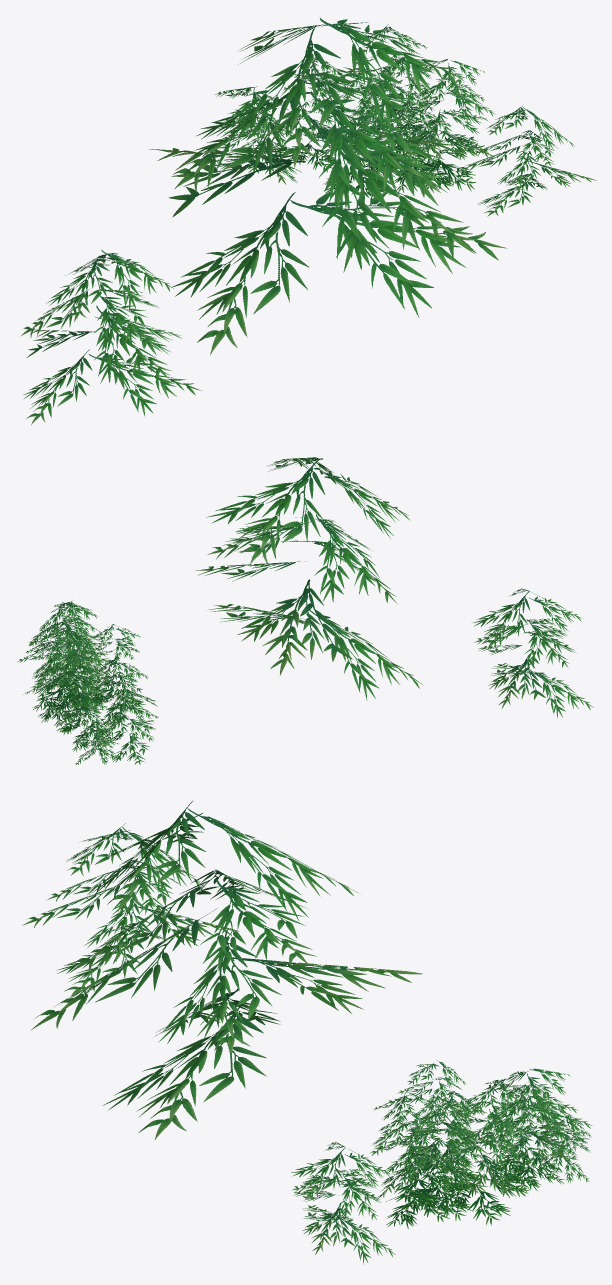
The model's file is Area_12_39.fbx.
3 renders of one model, top to bottom at view 1: azimuth 30°, elevation 25°; view 2: azimuth 150°, elevation 25°; view 3: azimuth 270°, elevation 25°, orthographic. The views are drawn at different scales.
Visible parts, largest first — view 1: Area_12_39; view 2: Area_12_39; view 3: Area_12_39.
Part boxes in pixels (left/top/right/bottom): Area_12_39: left=20, top=18, right=596, bottom=424; Area_12_39: left=17, top=457, right=593, bottom=765; Area_12_39: left=22, top=800, right=592, bottom=1264.
Size of the model in its own units: 4815 by 2156 by 3589.
